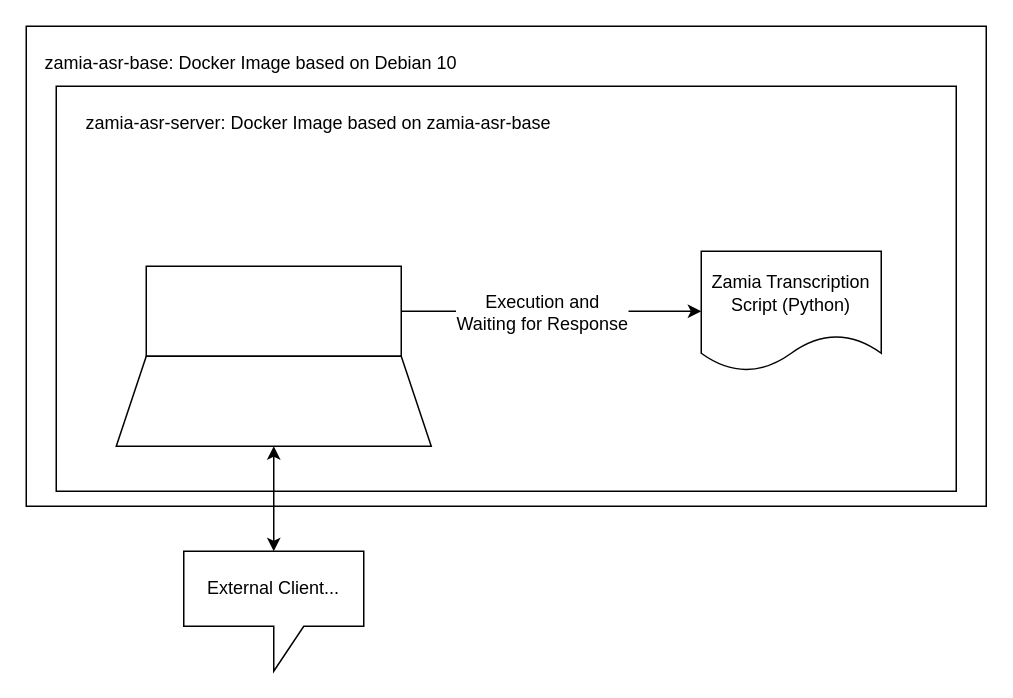
Some shapes in this 1013 by 698 pixel diagram are drawn without their labels. The centre of each missing label's shape, as x and y in pixels:
"Exposed HTTP Service on Port 5000" goes at [273,400].
"Flask Route: 'transcribe'" goes at [273,310].
